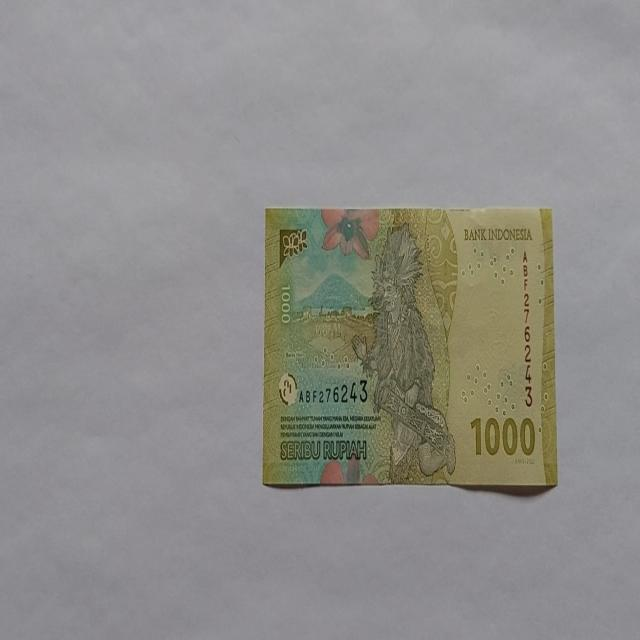seribu rupiah kertas: (262, 205, 557, 490)
